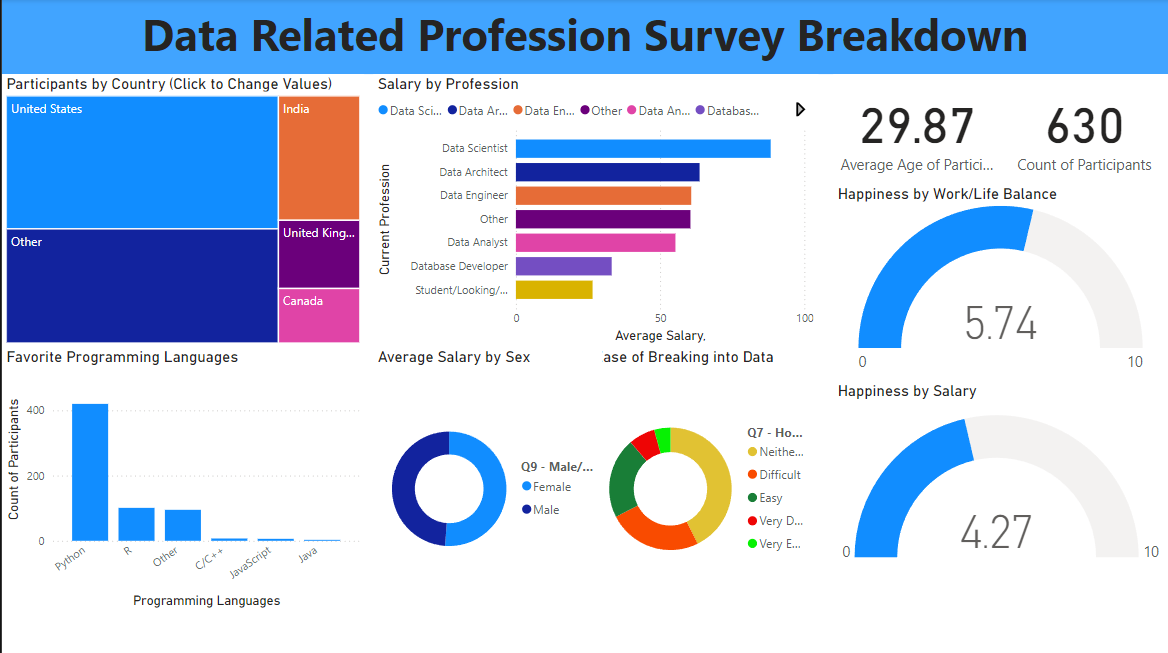

The page's visual inventory and layout, read from the dashboard file:
{"tool":"powerbi","page":{"name":"Page 1","canvas":[1280,720],"ordinal":0},"visuals":[{"type":"textbox","box":[0,0,1280.3,82.3],"z":0},{"type":"card","fields":{"Values":["CountNonNull(Data Professional Survey.Unique ID)"]},"box":[1096.4,82.3,183.9,120.8],"z":1},{"type":"card","fields":{"Values":["Avg(Data Professional Survey.Q10 - Current Age)"]},"box":[912.5,82.3,183.9,120.8],"z":2},{"type":"barChart","title":"Salary by Profession","fields":{"Category":["Data Professional Survey.Q1 - Which Title Best Fits your Current Role?.1"],"Y":["Avg(Data Professional Survey.Average Salary)"],"Series":["Data Professional Survey.Q1 - Which Title Best Fits your Current Role?.1"]},"box":[407.5,82.3,488.5,300.5],"z":3},{"type":"clusteredColumnChart","title":"Favorite Programming Languages","fields":{"Category":["Data Professional Survey.Q5 - Favorite Programming Language.1"],"Y":["CountNonNull(Data Professional Survey.Unique ID)"]},"box":[0,382.8,397.9,290.9],"z":4},{"type":"treemap","title":"Participants by Country (Click to Change Values)","fields":{"Group":["Data Professional Survey.Q11 - Which Country do you live in?.1"],"Values":["CountNonNull(Data Professional Survey.Unique ID)"]},"box":[0,82.3,397.9,300.5],"z":5},{"type":"gauge","title":"Happiness by Work/Life Balance","fields":{"Y":["Avg(Data Professional Survey.Q6 - How Happy are you in your Current Position with the following? (Work/Life Balance))"],"MinValue":["Min(Data Professional Survey.Q6 - How Happy are you in your Current Position with the following? (Work/Life Balance))"],"MaxValue":["Max(Data Professional Survey.Q6 - How Happy are you in your Current Position with the following? (Work/Life Balance))"]},"box":[912.5,203.1,367.8,216.8],"z":6},{"type":"gauge","title":"Happiness by Salary","fields":{"Y":["Avg(Data Professional Survey.Q6 - How Happy are you in your Current Position with the following? (Salary))"],"MinValue":["Min(Data Professional Survey.Q6 - How Happy are you in your Current Position with the following? (Salary))"],"MaxValue":["Max(Data Professional Survey.Q6 - How Happy are you in your Current Position with the following? (Salary))"]},"box":[912.5,419.9,367.8,216],"z":7},{"type":"donutChart","title":"Ease of Breaking into Data","fields":{"Y":["CountNonNull(Data Professional Survey.Unique ID)"],"Category":["Data Professional Survey.Q7 - How difficult was it for you to break into Data?"]},"box":[644.9,382.8,251.1,290.9],"z":9},{"type":"donutChart","title":"Average Salary by Sex","fields":{"Category":["Data Professional Survey.Q9 - Male/Female?"],"Y":["Avg(Data Professional Survey.Average Salary)"]},"box":[407.5,382.8,251.1,290.9],"z":10}]}

Visuals, with their boxes in screenshot pixels (x1, y1, x2, y2), scaled from the page's 1280x720 canvas onto the 1168x653 screenshot:
textbox: bbox=[0, 0, 1167, 75]
card - CountNonNull(Data Professional Survey.Unique ID): bbox=[1000, 75, 1167, 184]
card - Avg(Data Professional Survey.Q10 - Current Age): bbox=[833, 75, 1000, 184]
"Salary by Profession" barChart: bbox=[372, 75, 818, 347]
"Favorite Programming Languages" clusteredColumnChart: bbox=[0, 347, 363, 611]
"Participants by Country (Click to Change Values)" treemap: bbox=[0, 75, 363, 347]
"Happiness by Work/Life Balance" gauge: bbox=[833, 184, 1167, 381]
"Happiness by Salary" gauge: bbox=[833, 381, 1167, 577]
"Ease of Breaking into Data" donutChart: bbox=[588, 347, 818, 611]
"Average Salary by Sex" donutChart: bbox=[372, 347, 601, 611]
